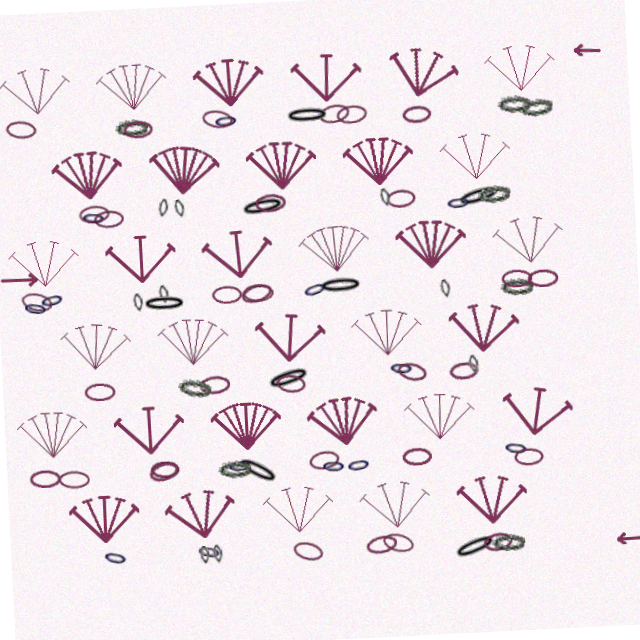chain: (226, 449, 274, 486), (440, 538, 488, 570), (262, 362, 310, 391), (461, 190, 509, 218), (245, 192, 292, 216), (320, 277, 365, 296), (21, 276, 55, 301), (241, 278, 275, 303), (370, 534, 404, 559), (393, 364, 426, 389), (140, 451, 173, 476), (280, 538, 313, 563), (295, 106, 340, 124), (143, 287, 188, 305), (174, 370, 209, 393), (529, 107, 564, 129), (211, 103, 244, 126), (328, 103, 361, 126), (354, 536, 387, 559), (301, 449, 334, 471), (483, 192, 517, 213), (272, 371, 304, 393), (471, 539, 503, 561), (302, 277, 331, 301), (15, 105, 47, 126), (90, 536, 118, 559), (346, 106, 378, 126), (125, 109, 158, 128), (508, 104, 541, 123), (211, 455, 244, 474), (446, 368, 477, 388), (184, 535, 212, 557), (84, 194, 116, 213), (260, 191, 292, 210), (40, 276, 67, 298), (502, 287, 535, 305), (481, 542, 514, 560), (196, 370, 227, 389), (51, 458, 82, 477), (412, 110, 442, 129), (392, 193, 422, 212), (23, 284, 50, 305), (338, 456, 365, 477), (496, 447, 523, 468), (213, 281, 244, 299), (244, 281, 275, 299), (529, 280, 560, 298), (503, 279, 534, 297), (81, 372, 112, 390), (22, 456, 53, 474), (133, 112, 163, 130), (99, 200, 129, 218), (143, 453, 173, 471), (395, 452, 425, 470), (507, 458, 537, 476), (86, 197, 112, 217), (386, 362, 412, 382), (223, 107, 249, 126), (451, 200, 477, 219), (220, 452, 245, 471), (314, 457, 339, 476), (179, 192, 192, 211), (385, 191, 398, 210), (163, 191, 175, 210), (441, 285, 453, 304), (134, 284, 145, 303), (160, 277, 171, 296), (466, 362, 477, 381), (201, 539, 212, 558), (188, 540, 199, 558)
fan: (394, 44, 475, 112), (493, 390, 571, 453), (154, 478, 229, 538), (154, 134, 229, 193), (252, 307, 326, 365), (301, 393, 375, 451), (446, 307, 520, 364), (58, 307, 131, 364), (59, 136, 131, 192), (205, 222, 277, 278), (496, 222, 568, 278), (11, 50, 83, 105), (302, 222, 374, 277), (156, 308, 228, 363), (302, 51, 374, 105), (350, 481, 422, 535), (108, 51, 179, 105), (205, 51, 276, 105), (399, 395, 470, 449), (399, 223, 470, 276), (254, 137, 324, 190), (351, 309, 421, 362), (12, 395, 82, 448), (109, 395, 179, 448), (448, 481, 518, 534), (497, 52, 567, 104), (351, 138, 421, 190), (448, 138, 518, 190), (12, 224, 82, 276), (109, 224, 179, 276), (206, 396, 276, 448), (60, 482, 130, 534), (254, 482, 324, 534)
noise: (2, 257, 42, 273), (584, 57, 614, 70), (603, 547, 635, 559)
